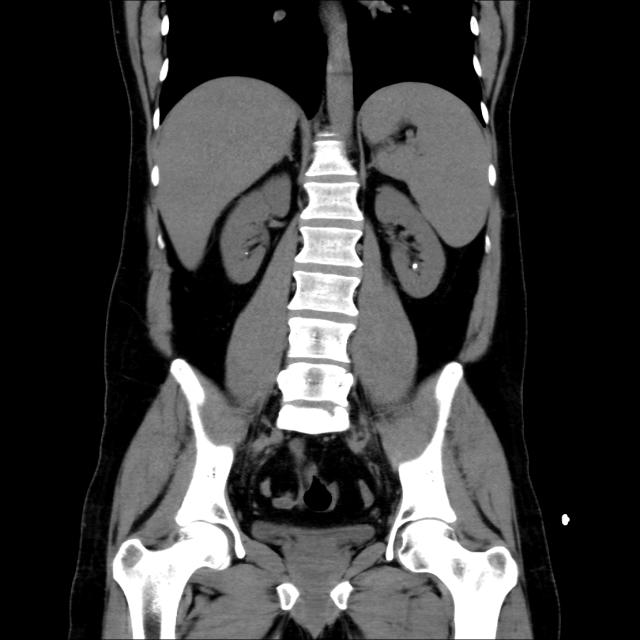kidneystone: (412, 262, 418, 269)
